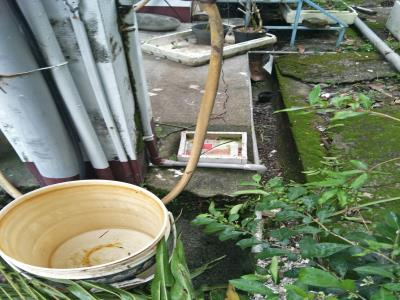box: (140, 21, 280, 68), (175, 128, 251, 171)
bucket: (1, 178, 175, 297)
styrofoam: (277, 1, 359, 26)
